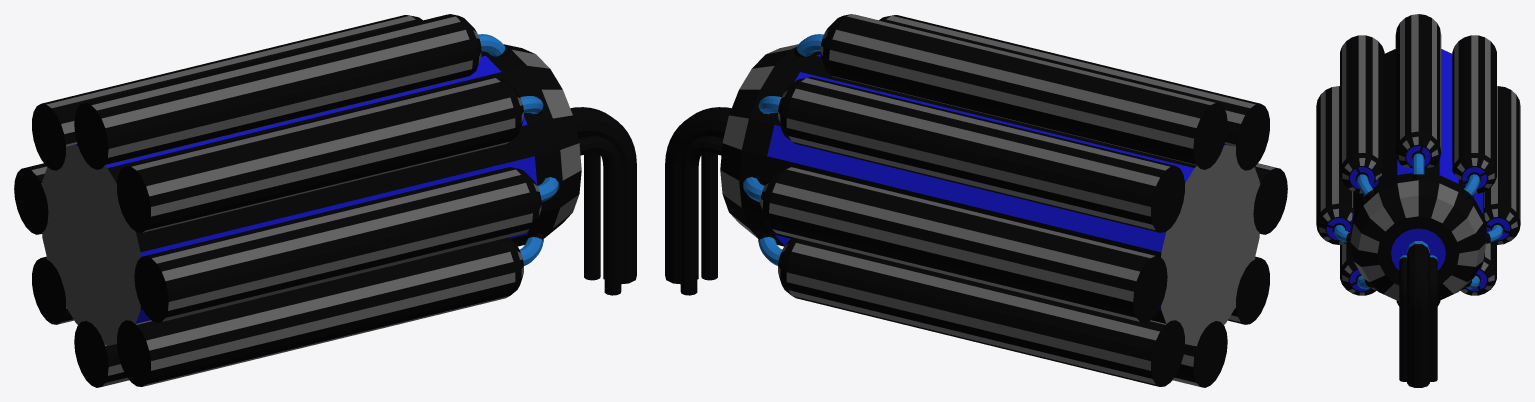
File: engine.fbx
3 renders of one model, left to right at view 1: azimuth 30°, elevation 25°; view 2: azimuth 150°, elevation 25°; view 3: azimuth 270°, elevation 25°, orthographic. The views are drawn at different scales.
Parts seen in each view (by area): view 1: Core, Part_7, Part_6, Part_0, Part_5, Part_1, Pipe_Core_Center, Pipe_Core_Left, Part_4, Pipe_Core_Right, Part_2, Part_3; view 2: Core, Part_1, Part_2, Part_0, Part_3, Part_7, Pipe_Core_Center, Pipe_Core_Right, Part_4, Pipe_Core_Left, Part_6, Part_5; view 3: Core, Part_0, Part_7, Part_1, Part_6, Part_2, Pipe_Core_Center, Pipe_Core_Right, Pipe_Core_Left, Part_5, Part_3.
Boxes of the visible parts, x1,y1,x2,y2 form: Core: (42,44,581,345); Part_7: (117,77,543,232); Part_6: (134,167,558,322); Part_0: (74,14,507,169); Part_5: (117,233,543,386); Part_1: (32,15,422,170); Pipe_Core_Center: (570,107,636,284); Pipe_Core_Left: (578,136,621,295); Part_4: (74,321,129,387); Pipe_Core_Right: (584,153,600,280); Part_2: (14,163,48,234); Part_3: (32,256,73,324); Core: (720,44,1259,345); Part_1: (758,77,1184,232); Part_2: (743,167,1167,322); Part_0: (794,14,1227,169); Part_3: (758,233,1184,386); Part_7: (879,15,1269,170); Pipe_Core_Center: (665,107,731,284); Pipe_Core_Right: (680,136,723,295); Part_4: (1172,321,1227,387); Pipe_Core_Left: (701,153,717,280); Part_6: (1253,163,1287,234); Part_5: (1228,256,1269,324); Core: (1350,49,1486,301); Part_0: (1395,14,1441,178); Part_7: (1340,35,1384,199); Part_1: (1452,35,1496,199); Part_6: (1316,86,1352,244); Part_2: (1484,86,1520,244); Pipe_Core_Center: (1407,241,1429,387); Pipe_Core_Right: (1430,255,1437,381); Pipe_Core_Left: (1399,255,1406,381); Part_5: (1340,243,1376,295); Part_3: (1460,243,1496,295).
Bounding box in the file's own units: 912 × 488 × 450.
